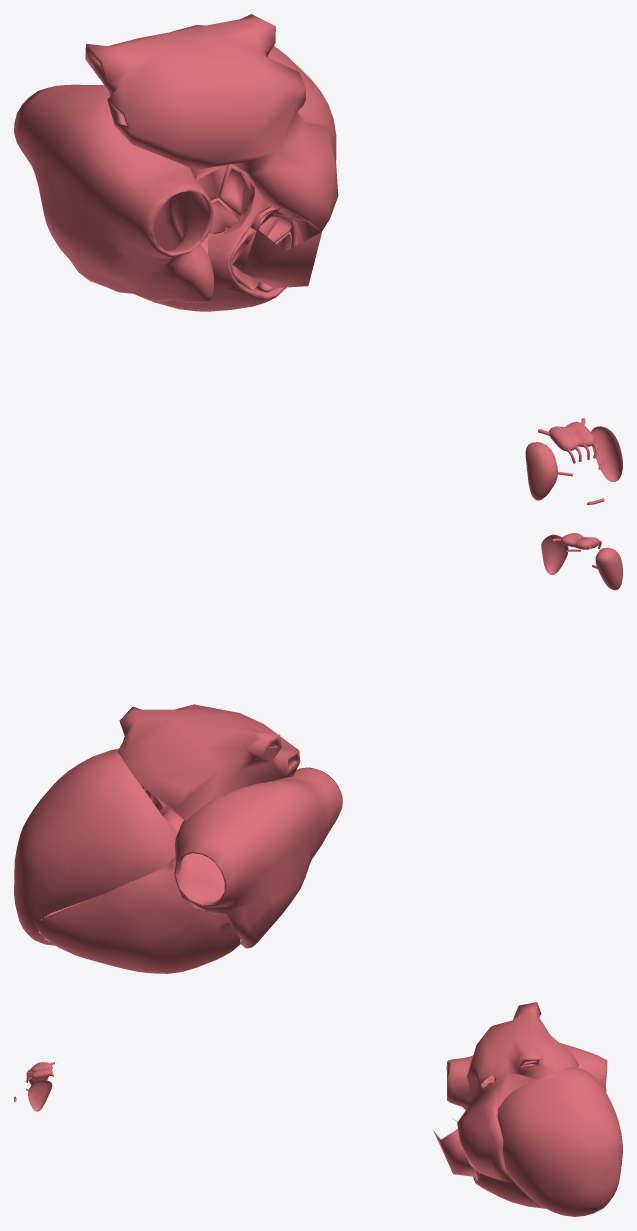
Rendered from overview__vascular.791e286105.glb.
3 views of the same model, one above another, from view 1: azimuth 30°, elevation 25°; view 2: azimuth 150°, elevation 25°; view 3: azimuth 270°, elevation 25° (orthographic). The views are drawn at different scales.
Visible parts, largest first — view 1: Left atrium, Right atrium, Pulmonary trunk, Right ventricle, Left ventricle, Cavernous sinus.r, Basilar venous plexus, Cavernous sinus.l, Left coronary leaflet, Non-coronary leaflet, Right coronary leaflet, Right semilunar leaflet of pulmonary valve; view 2: Right atrium, Left ventricle, Left atrium, Right ventricle, Cavernous sinus.r, Cavernous sinus.l; view 3: Left ventricle, Left atrium, Right atrium, Right ventricle, Pulmonary trunk, Cavernous sinus.l, Basilar venous plexus.
Boxes of the visible parts, box(x1,y1,x2,y2) form: Left atrium: box(85, 14, 338, 244); Right atrium: box(14, 84, 213, 303); Pulmonary trunk: box(232, 206, 321, 288); Right ventricle: box(139, 190, 297, 311); Left ventricle: box(205, 46, 336, 238); Cavernous sinus.r: box(525, 442, 573, 500); Basilar venous plexus: box(538, 418, 597, 463); Cavernous sinus.l: box(591, 426, 622, 481); Left coronary leaflet: box(218, 164, 250, 216); Non-coronary leaflet: box(191, 165, 226, 200); Right coronary leaflet: box(209, 198, 239, 233); Right semilunar leaflet of pulmonary valve: box(211, 226, 259, 289); Right atrium: box(174, 767, 342, 948); Left ventricle: box(14, 748, 183, 945); Left atrium: box(117, 704, 300, 820); Right ventricle: box(37, 857, 240, 973); Cavernous sinus.r: box(595, 547, 622, 590); Cavernous sinus.l: box(541, 534, 580, 574); Left ventricle: box(497, 1067, 622, 1216); Left atrium: box(457, 1002, 578, 1183); Right atrium: box(446, 1042, 607, 1110); Right ventricle: box(473, 1173, 545, 1208); Pulmonary trunk: box(433, 1119, 476, 1176); Cavernous sinus.l: box(26, 1080, 52, 1111); Basilar venous plexus: box(26, 1062, 54, 1082).
Size of the model in its own units: 115 by 110 by 362.
